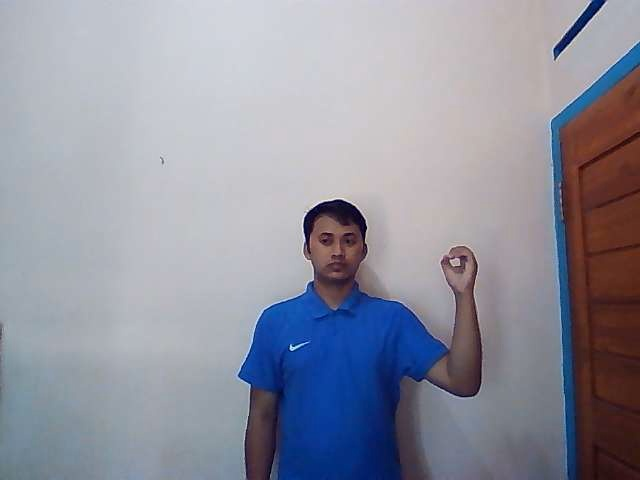O: (440, 244, 481, 296)
